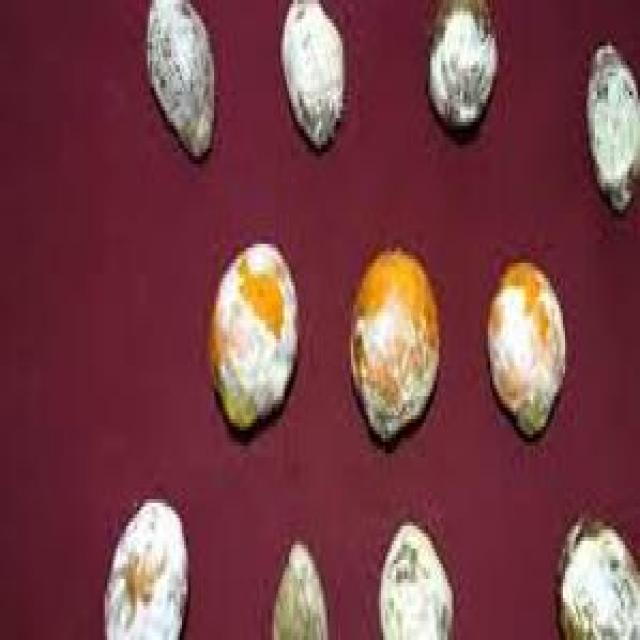damaged: (351, 251, 437, 438), (210, 244, 295, 423), (488, 259, 563, 430), (105, 499, 186, 636), (148, 0, 212, 152), (428, 0, 497, 126), (563, 522, 638, 636), (283, 0, 342, 141), (591, 42, 638, 210), (381, 526, 449, 636), (274, 545, 325, 636)
